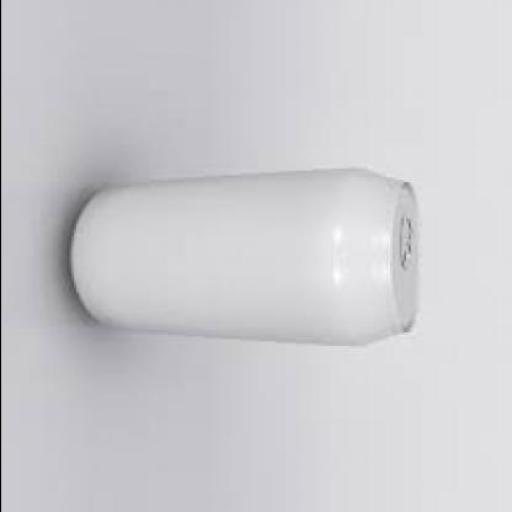metal: (71, 168, 419, 344)
